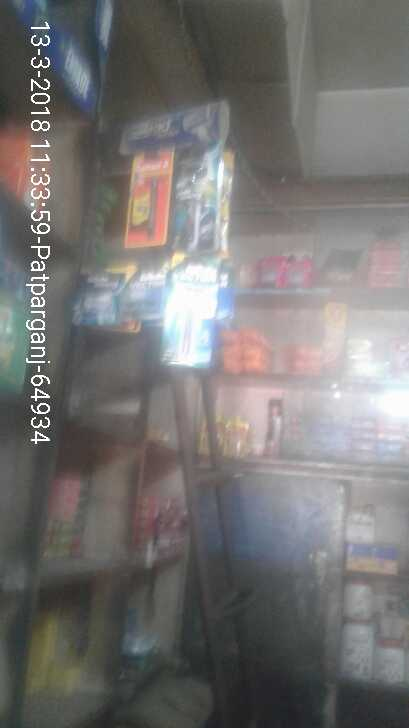gillette: (170, 149, 227, 252)
